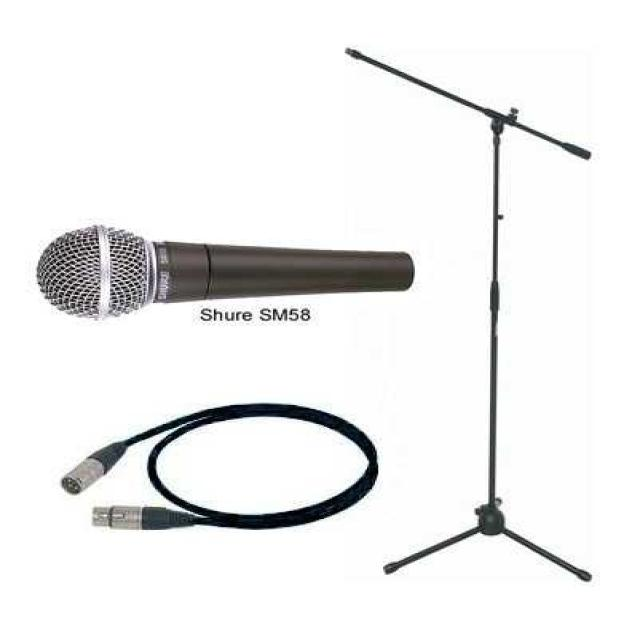microphone: (21, 222, 458, 320)
